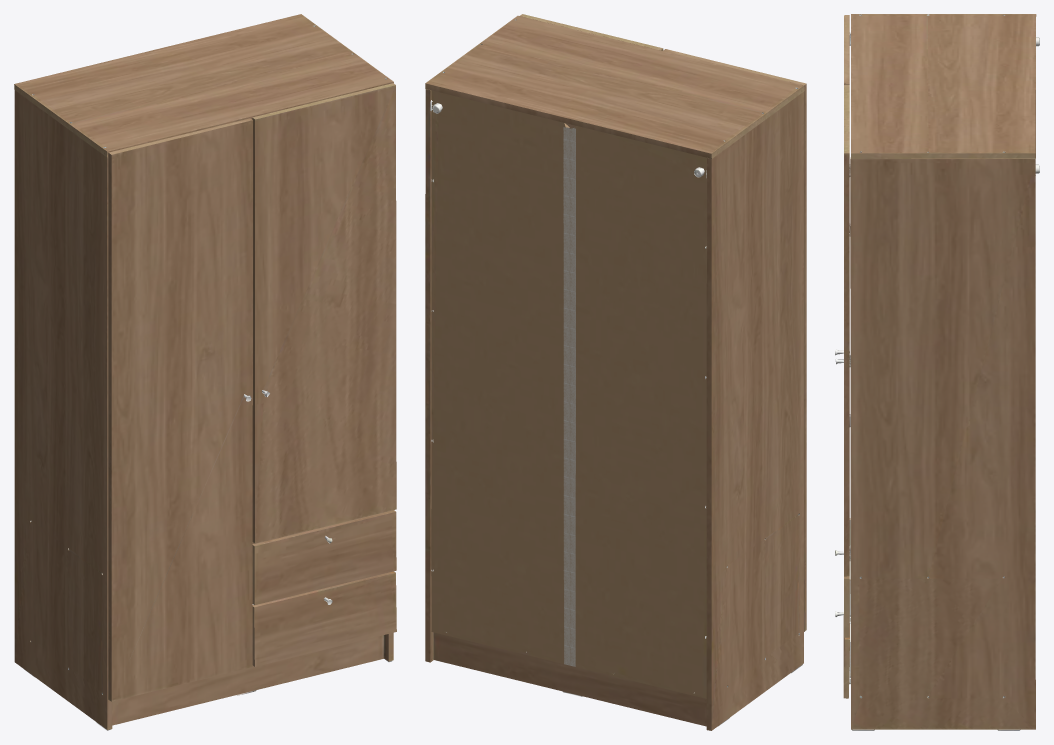
The model's file is 70530609-mini.glb.
3 renders of one model, left to right at view 1: azimuth 30°, elevation 25°; view 2: azimuth 150°, elevation 25°; view 3: azimuth 270°, elevation 25°, orthographic.
Visible parts, largest first — view 1: model; view 2: model; view 3: model.
Part boxes in pixels (x1=…): model: x1=14, y1=14, x2=396, y2=730; model: x1=425, y1=14, x2=806, y2=730; model: x1=835, y1=14, x2=1039, y2=730.
Bounding box in the file's own units: 0.9805 × 1.9 × 0.6083.
2 materials, 2 textured.
